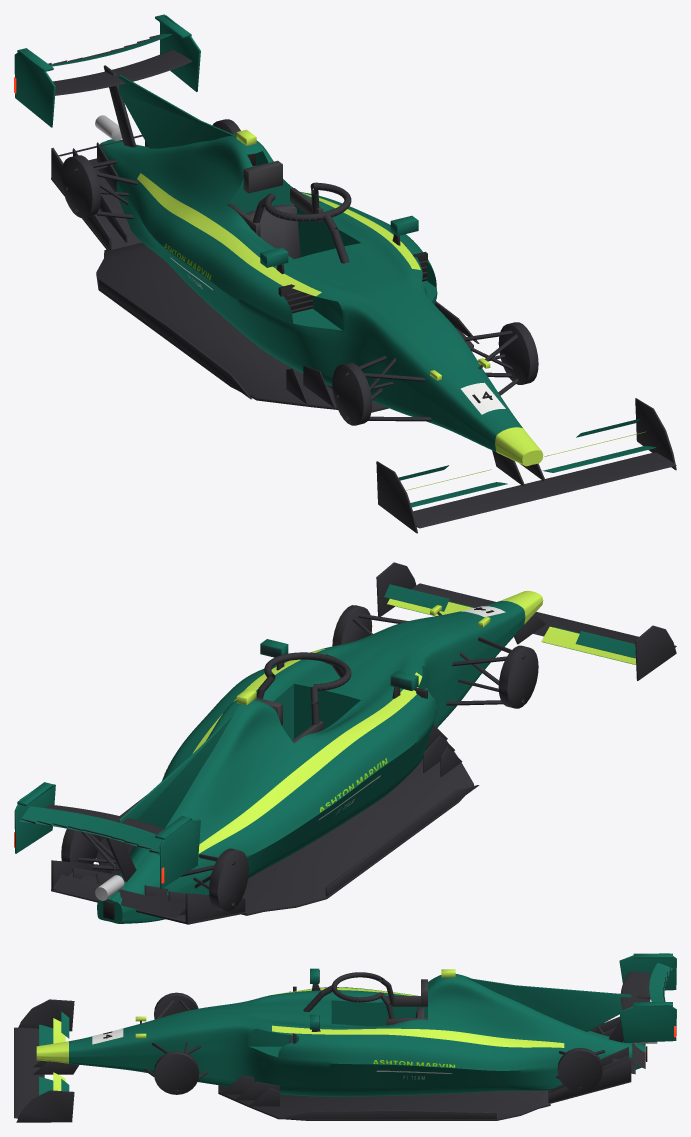
File: ashton_amr26.glb
The picture shows the model from 3 angles, top to bottom: view 1: azimuth 30°, elevation 25°; view 2: azimuth 150°, elevation 25°; view 3: azimuth 270°, elevation 25°; orthographic projection. The views are drawn at different scales.
Parts seen in each view (by area): view 1: ashton_amr26; view 2: ashton_amr26; view 3: ashton_amr26.
Boxes of the visible parts, x1=… form: ashton_amr26: x1=14, y1=14, x2=676, y2=533; ashton_amr26: x1=14, y1=562, x2=676, y2=924; ashton_amr26: x1=14, y1=953, x2=676, y2=1122.
Size of the model in its own units: 1.82 by 1.03 by 5.59.
Materials: 14 (1 with a texture image).
